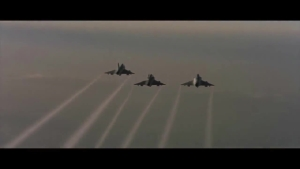flight: (180, 72, 215, 89), (105, 63, 136, 78), (133, 73, 166, 87)
